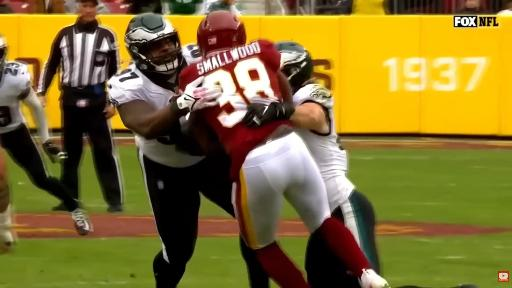Helmet: (125, 13, 183, 74), (197, 11, 246, 56), (275, 42, 313, 90), (0, 35, 7, 72)
Jersey: (179, 40, 291, 180), (293, 84, 353, 208), (134, 117, 203, 167), (0, 62, 31, 133), (182, 43, 201, 64)
Player: (180, 11, 389, 287), (107, 13, 234, 287), (244, 42, 379, 272), (0, 36, 92, 235), (0, 151, 15, 254)
